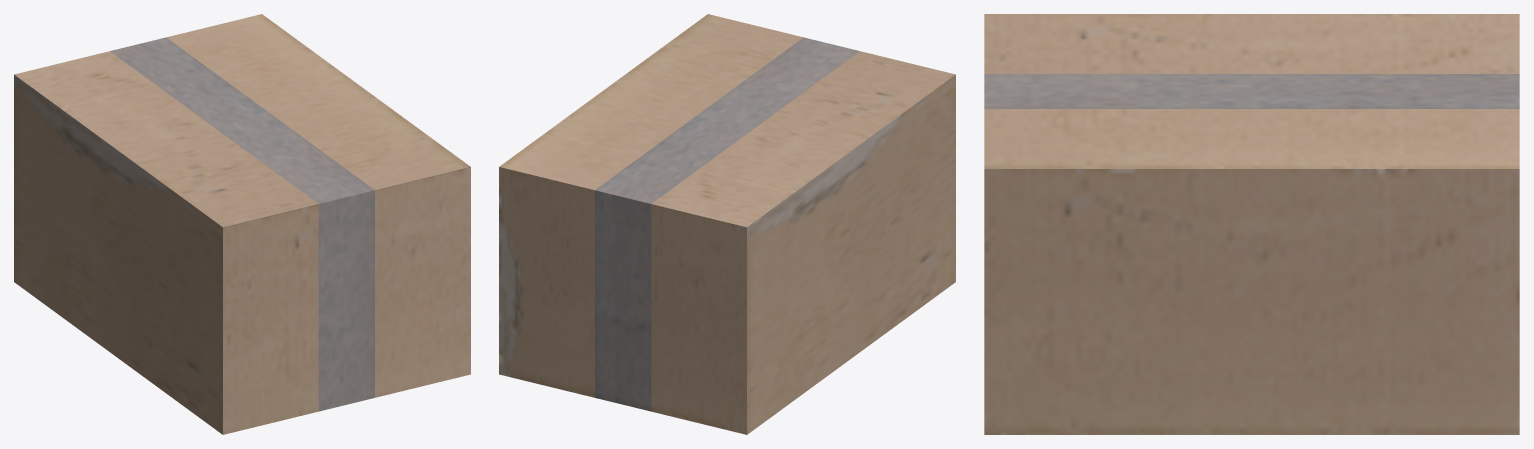
The model's file is Cardboard Box.fbx.
3 renders of one model, left to right at view 1: azimuth 30°, elevation 25°; view 2: azimuth 150°, elevation 25°; view 3: azimuth 270°, elevation 25°, orthographic. The views are drawn at different scales.
Visible parts, largest first — view 1: Box007; view 2: Box007; view 3: Box007.
Part boxes in pixels (<box>): Box007: <box>14,14,470,434</box>; Box007: <box>499,14,955,434</box>; Box007: <box>984,14,1519,434</box>.
Bounding box in the file's own units: 51.99 × 41.59 × 75.85.
